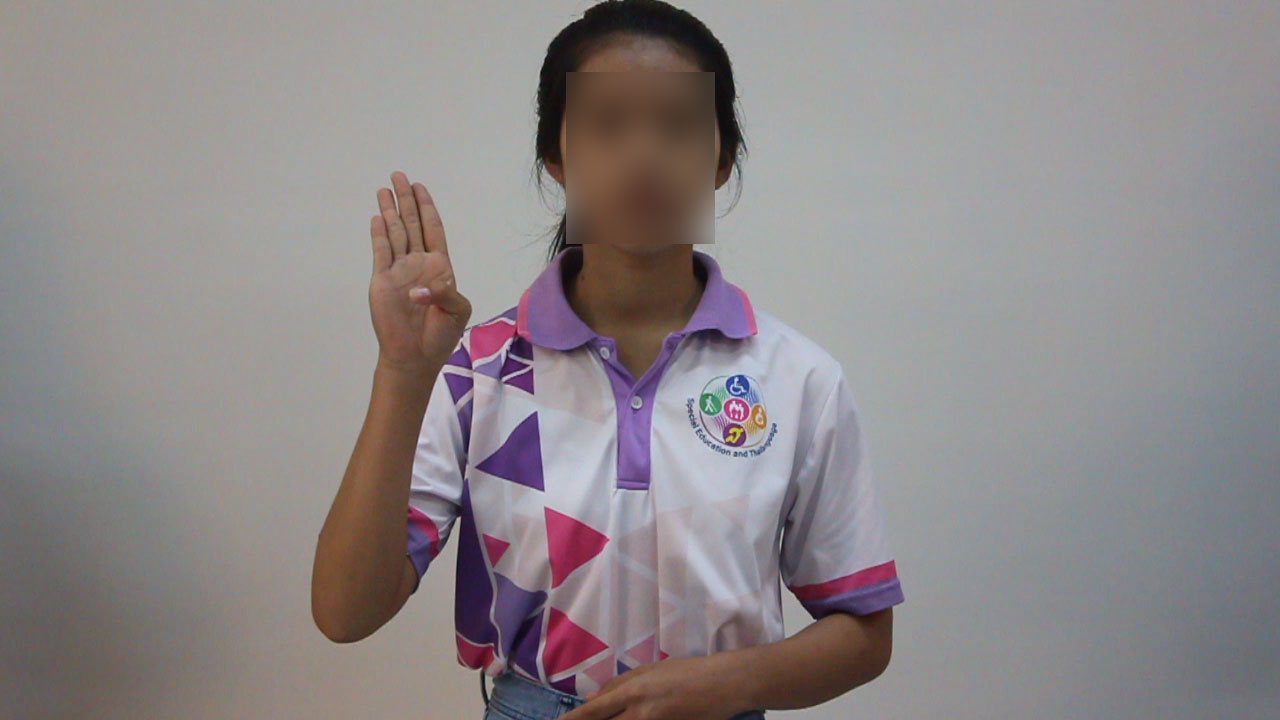bor: (349, 166, 484, 393)
